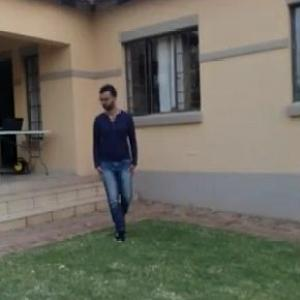follow: (90, 79, 138, 244)
